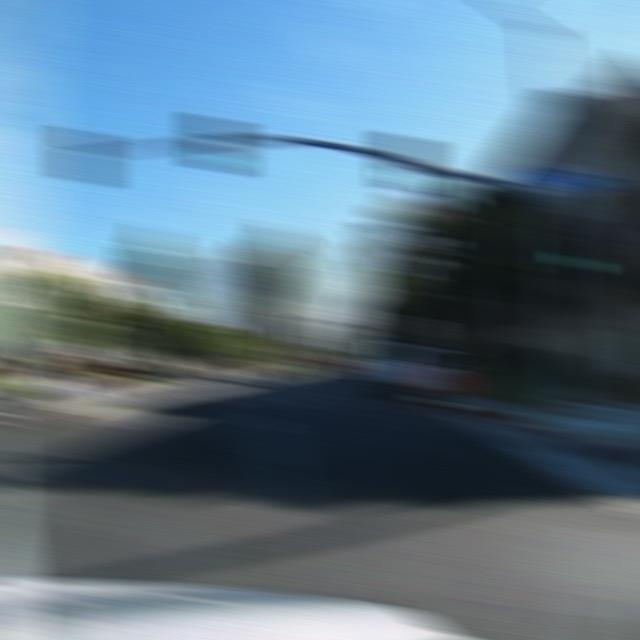speedLimit35: (402, 313, 436, 336)
